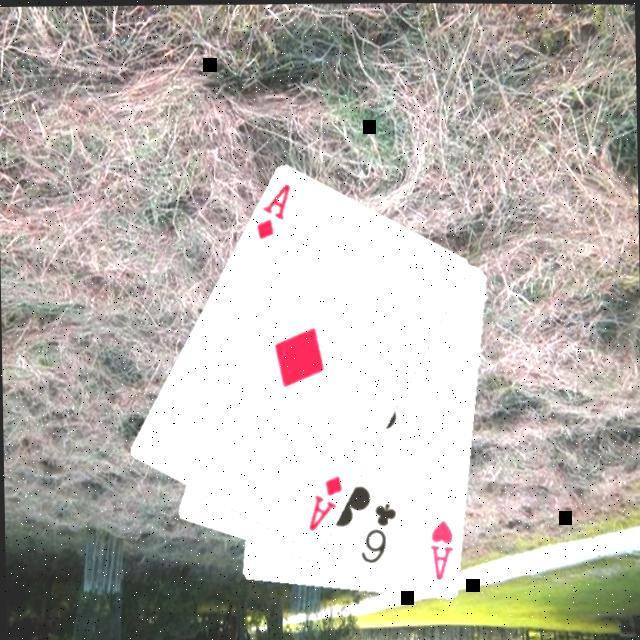6C: (356, 499, 402, 567)
AD: (304, 472, 348, 536), (252, 180, 294, 243)
AH: (426, 516, 458, 584)
